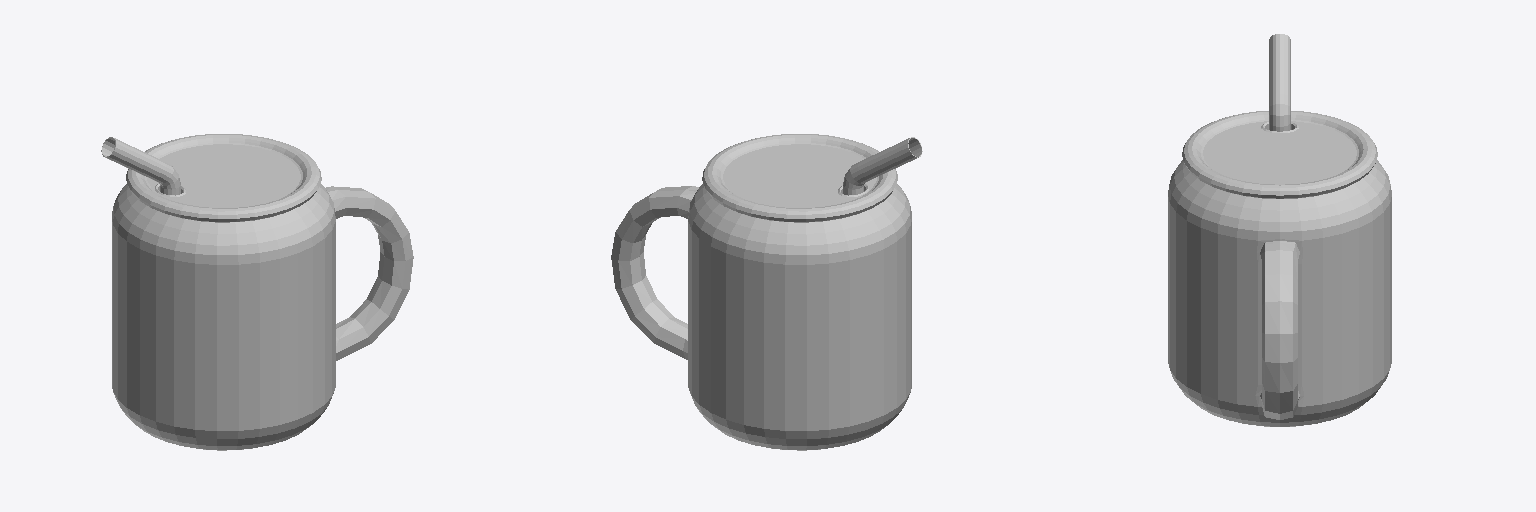
Rendered from coffee-cup-004.obj.
The picture shows the model from 3 angles: view 1: azimuth 30°, elevation 25°; view 2: azimuth 150°, elevation 25°; view 3: azimuth 270°, elevation 25°; orthographic projection.
Parts seen in each view (by area): view 1: cup_ceramic-cup, ceramic-top, plastic-straw; view 2: cup_ceramic-cup, ceramic-top, plastic-straw; view 3: cup_ceramic-cup, ceramic-top, plastic-straw.
Part boxes in pixels (x1,y1,x2,y2): cup_ceramic-cup: (112, 184, 413, 450); ceramic-top: (126, 134, 321, 222); plastic-straw: (101, 137, 180, 195); cup_ceramic-cup: (611, 184, 911, 450); ceramic-top: (702, 134, 897, 222); plastic-straw: (843, 137, 922, 195); cup_ceramic-cup: (1168, 160, 1391, 426); ceramic-top: (1182, 111, 1377, 198); plastic-straw: (1269, 34, 1290, 131).
Bounding box in the file's own units: 0.1315 × 0.1262 × 0.0839.